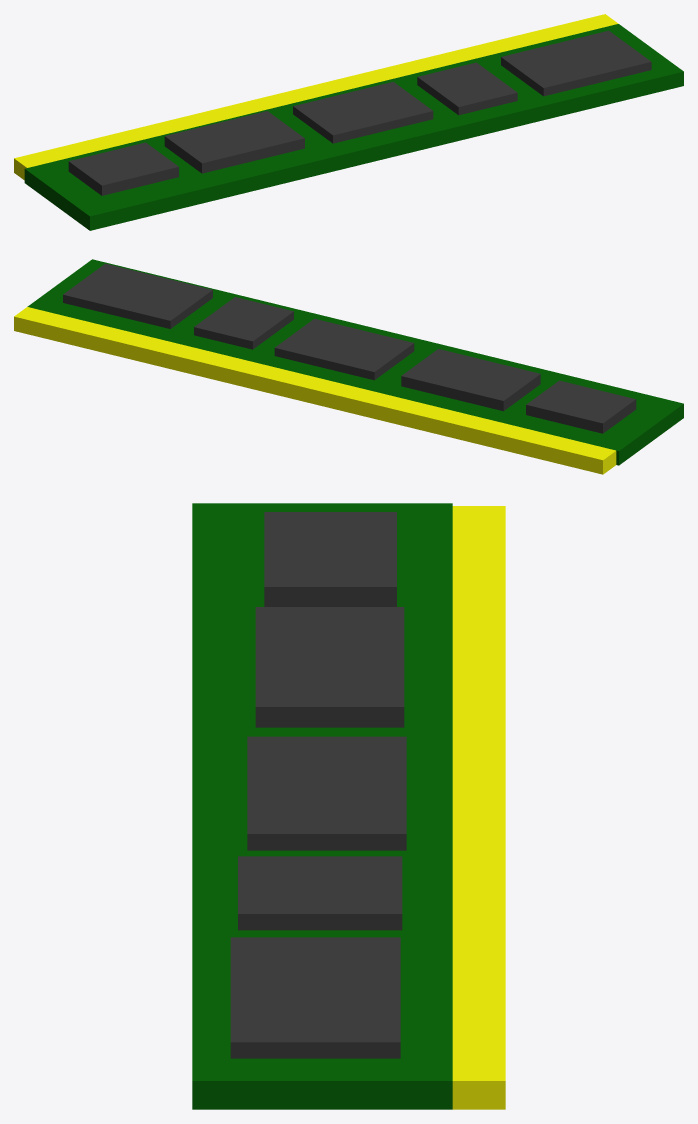
Rendered from ram.fbx.
3 renders of one model, top to bottom at view 1: azimuth 30°, elevation 25°; view 2: azimuth 150°, elevation 25°; view 3: azimuth 270°, elevation 25°, orthographic. The views are drawn at different scales.
Parts seen in each view (by area): view 1: Model; view 2: Model; view 3: Model.
Part boxes in pixels (x1,y1,x2,y2): Model: (14, 14, 683, 230); Model: (14, 259, 683, 474); Model: (192, 503, 505, 1109).
Size of the model in its own units: 107 by 4.26 by 24.48.
